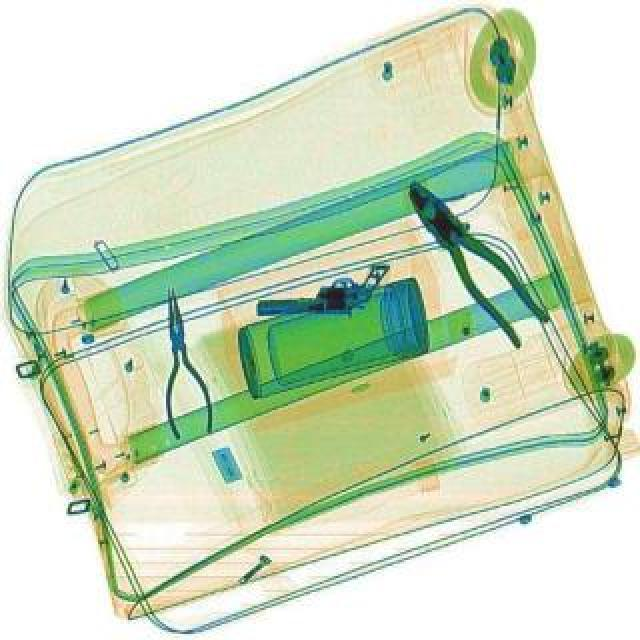gun: (258, 256, 390, 316)
wrench: (388, 168, 556, 348), (148, 282, 214, 440)
